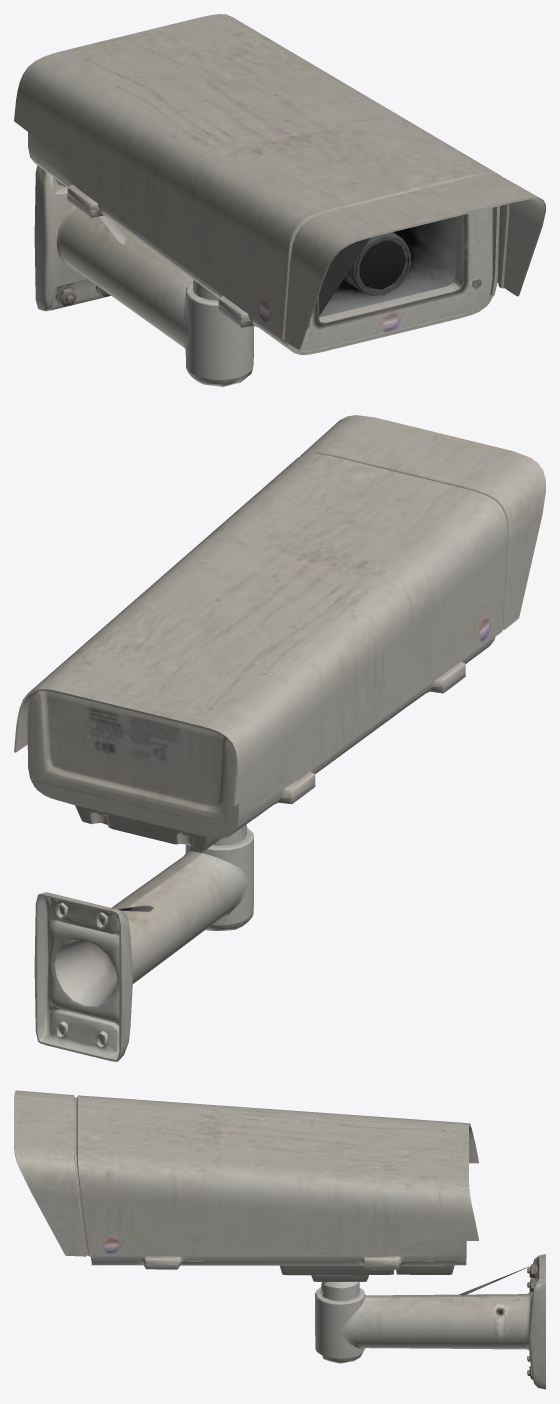
File: security_camera_02.gltf
3 views of the same model, one above another, from view 1: azimuth 30°, elevation 25°; view 2: azimuth 150°, elevation 25°; view 3: azimuth 270°, elevation 25° (orthographic). The views are drawn at different scales.
Parts seen in each view (by area): view 1: security_camera_02, security_camera_02_mount; view 2: security_camera_02, security_camera_02_mount; view 3: security_camera_02, security_camera_02_mount.
Boxes of the visible parts, <box> form: security_camera_02: <box>14,14,545,354</box>; security_camera_02_mount: <box>34,165,253,386</box>; security_camera_02: <box>14,415,545,850</box>; security_camera_02_mount: <box>34,824,253,1061</box>; security_camera_02: <box>14,1090,478,1294</box>; security_camera_02_mount: <box>315,1254,545,1389</box>.
Bounding box in the file's own units: 0.1406 × 0.2086 × 0.3938.
2 materials, 2 textured.
